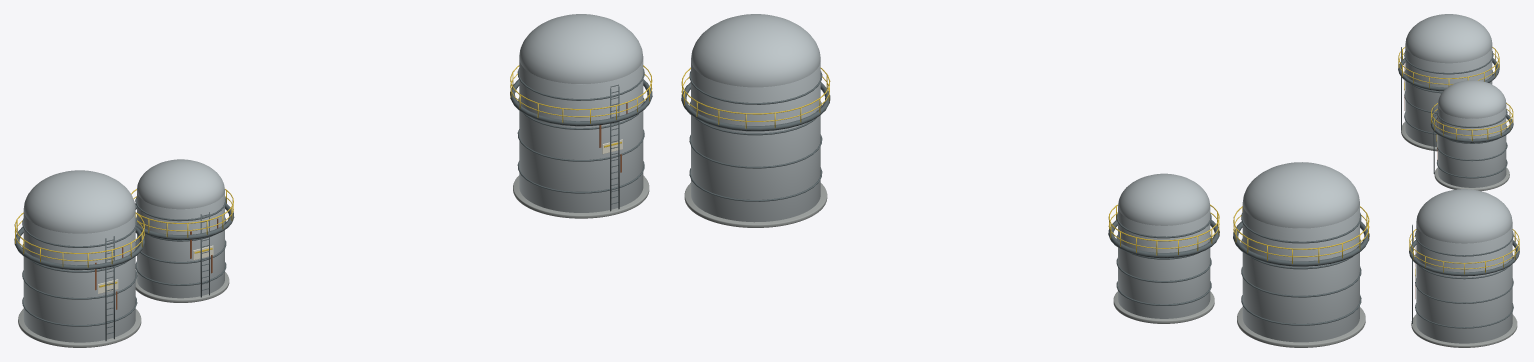
File: process-tanks.glb
3 renders of one model, left to right at view 1: azimuth 30°, elevation 25°; view 2: azimuth 150°, elevation 25°; view 3: azimuth 270°, elevation 25°, orthographic. The views are drawn at different scales.
Parts seen in each view (by area): view 1: T103_SHELL, T101_SHELL, T103_DOME, T102_SHELL, T101_DOME, T102_DOME, T103_FOUNDATION, T103_PLATFORM, T101_FOUNDATION, T101_PLATFORM, T102_PLATFORM, T102_FOUNDATION; view 2: T103_SHELL, T101_SHELL, T102_SHELL, T103_DOME, T101_DOME, T102_DOME, T103_FOUNDATION, T103_PLATFORM, T101_FOUNDATION, T101_PLATFORM, T102_PLATFORM, T102_FOUNDATION; view 3: T103_SHELL, T102_SHELL, T103_DOME, T101_SHELL, T101_DOME, T102_DOME, T103_FOUNDATION, T103_PLATFORM, T102_PLATFORM, T101_PLATFORM, T102_FOUNDATION, T101_FOUNDATION (+15 smaller).
Boxes of the visible parts, bbox=[...] form: T103_SHELL: bbox=[519, 59, 643, 212]; T101_SHELL: bbox=[23, 211, 135, 342]; T103_DOME: bbox=[519, 14, 643, 83]; T102_SHELL: bbox=[137, 192, 224, 298]; T101_DOME: bbox=[23, 170, 135, 233]; T102_DOME: bbox=[137, 159, 224, 209]; T103_FOUNDATION: bbox=[513, 175, 649, 218]; T103_PLATFORM: bbox=[510, 79, 652, 126]; T101_FOUNDATION: bbox=[18, 309, 141, 347]; T101_PLATFORM: bbox=[14, 227, 144, 270]; T102_PLATFORM: bbox=[135, 203, 234, 240]; T102_FOUNDATION: bbox=[135, 272, 229, 302]; T103_SHELL: bbox=[691, 62, 820, 222]; T101_SHELL: bbox=[1242, 204, 1359, 342]; T102_SHELL: bbox=[1118, 207, 1210, 318]; T103_DOME: bbox=[691, 14, 820, 87]; T101_DOME: bbox=[1242, 162, 1359, 228]; T102_DOME: bbox=[1118, 173, 1210, 225]; T103_FOUNDATION: bbox=[684, 183, 827, 227]; T103_PLATFORM: bbox=[681, 82, 830, 131]; T101_FOUNDATION: bbox=[1237, 307, 1365, 347]; T101_PLATFORM: bbox=[1233, 221, 1369, 266]; T102_PLATFORM: bbox=[1108, 220, 1219, 258]; T102_FOUNDATION: bbox=[1113, 291, 1214, 323]; T103_SHELL: bbox=[1416, 224, 1512, 343]; T102_SHELL: bbox=[1438, 105, 1506, 187]; T103_DOME: bbox=[1416, 189, 1512, 243]; T101_SHELL: bbox=[1405, 46, 1492, 146]; T101_DOME: bbox=[1405, 14, 1492, 63]; T102_DOME: bbox=[1438, 80, 1506, 118]; T103_FOUNDATION: bbox=[1411, 314, 1517, 347]; T103_PLATFORM: bbox=[1409, 240, 1519, 276]; T102_PLATFORM: bbox=[1430, 114, 1513, 142]; T101_PLATFORM: bbox=[1398, 58, 1499, 91]; T102_FOUNDATION: bbox=[1434, 167, 1509, 191]; T101_FOUNDATION: bbox=[1401, 122, 1437, 151].
Size of what is drawn, in the model's own units: 36.34 by 9.22 by 7.84.
